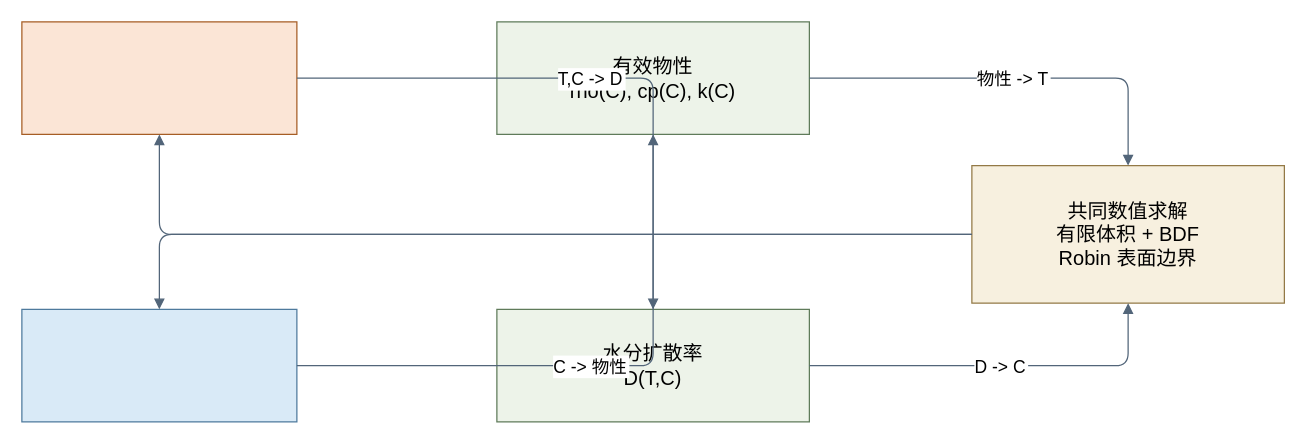
Image size: 1306x444. Some labels were removed from this diagram. Each missing label, with the centre of its shape:
含水率场 C(r,t): the point at 159,365
温度场 T(r,t): the point at 159,77
